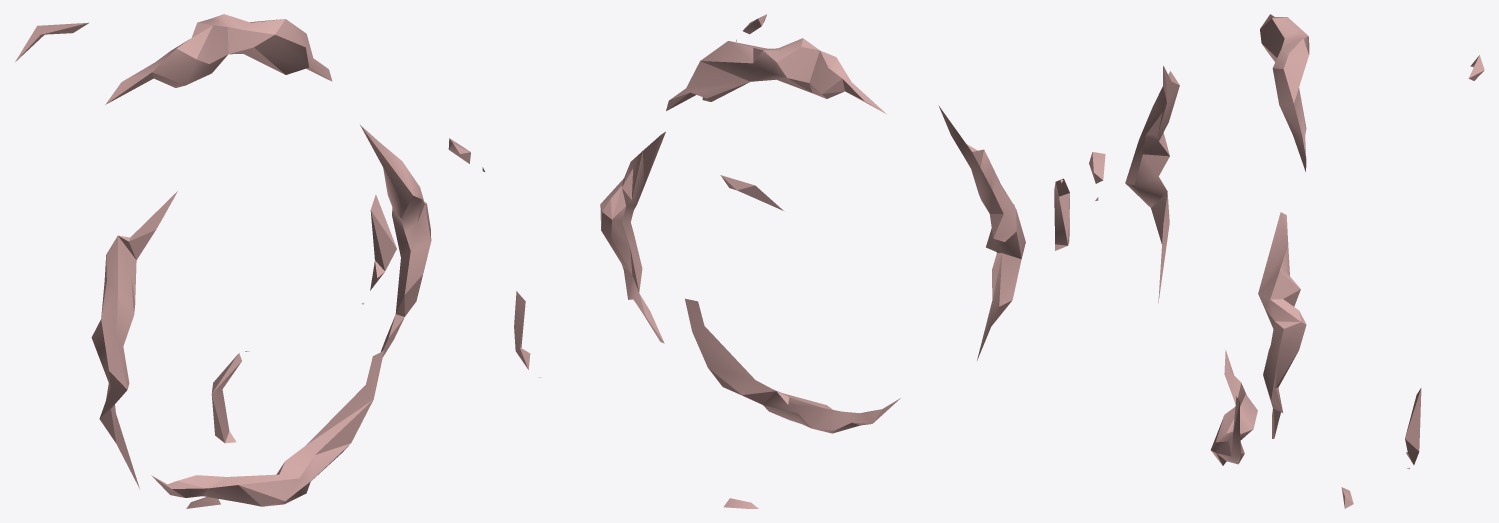
File: Planet_Clouds_003.fbx
3 views of the same model, side by side, from view 1: azimuth 30°, elevation 25°; view 2: azimuth 150°, elevation 25°; view 3: azimuth 270°, elevation 25° (orthographic). The views are drawn at different scales.
Visible parts, largest first — view 1: Planet.Clouds.003; view 2: Planet.Clouds.003; view 3: Planet.Clouds.003.
Boxes of the visible parts, bbox=[...] form: Planet.Clouds.003: bbox=[15, 14, 484, 508]; Planet.Clouds.003: bbox=[514, 14, 1025, 508]; Planet.Clouds.003: bbox=[1054, 14, 1484, 508].
Size of the model in its own units: 99332 by 112036 by 93183.
